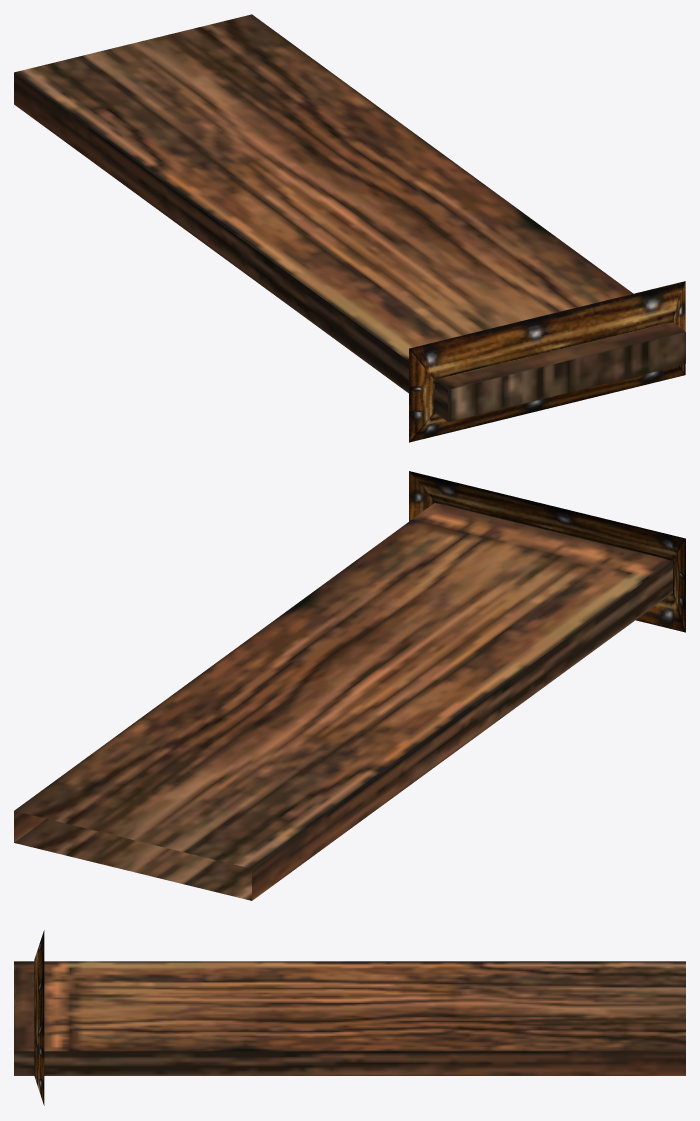
Rendered from INST_WH_SLIDEPLATFORM_01.obj.
The picture shows the model from 3 angles, top to bottom: view 1: azimuth 30°, elevation 25°; view 2: azimuth 150°, elevation 25°; view 3: azimuth 270°, elevation 25°; orthographic projection. The views are drawn at different scales.
Visible parts, largest first — view 1: WH3_Plank4746, Wh3_Slide_Hole; view 2: WH3_Plank4746, Wh3_Slide_Hole; view 3: WH3_Plank4746, Wh3_Slide_Hole.
Boxes of the visible parts, x1,y1,x2,y2 form: WH3_Plank4746: (14,14,685,421); Wh3_Slide_Hole: (409,281,685,442); WH3_Plank4746: (14,503,672,900); Wh3_Slide_Hole: (409,471,685,632); WH3_Plank4746: (14,961,685,1075); Wh3_Slide_Hole: (34,930,44,1105).
Size of the model in its own units: 111 by 36.11 by 302.
